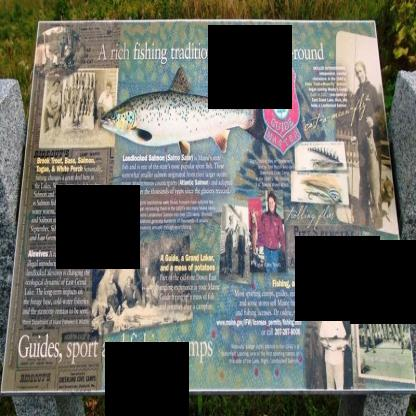fish: (100, 72, 278, 160), (319, 331, 352, 353)
